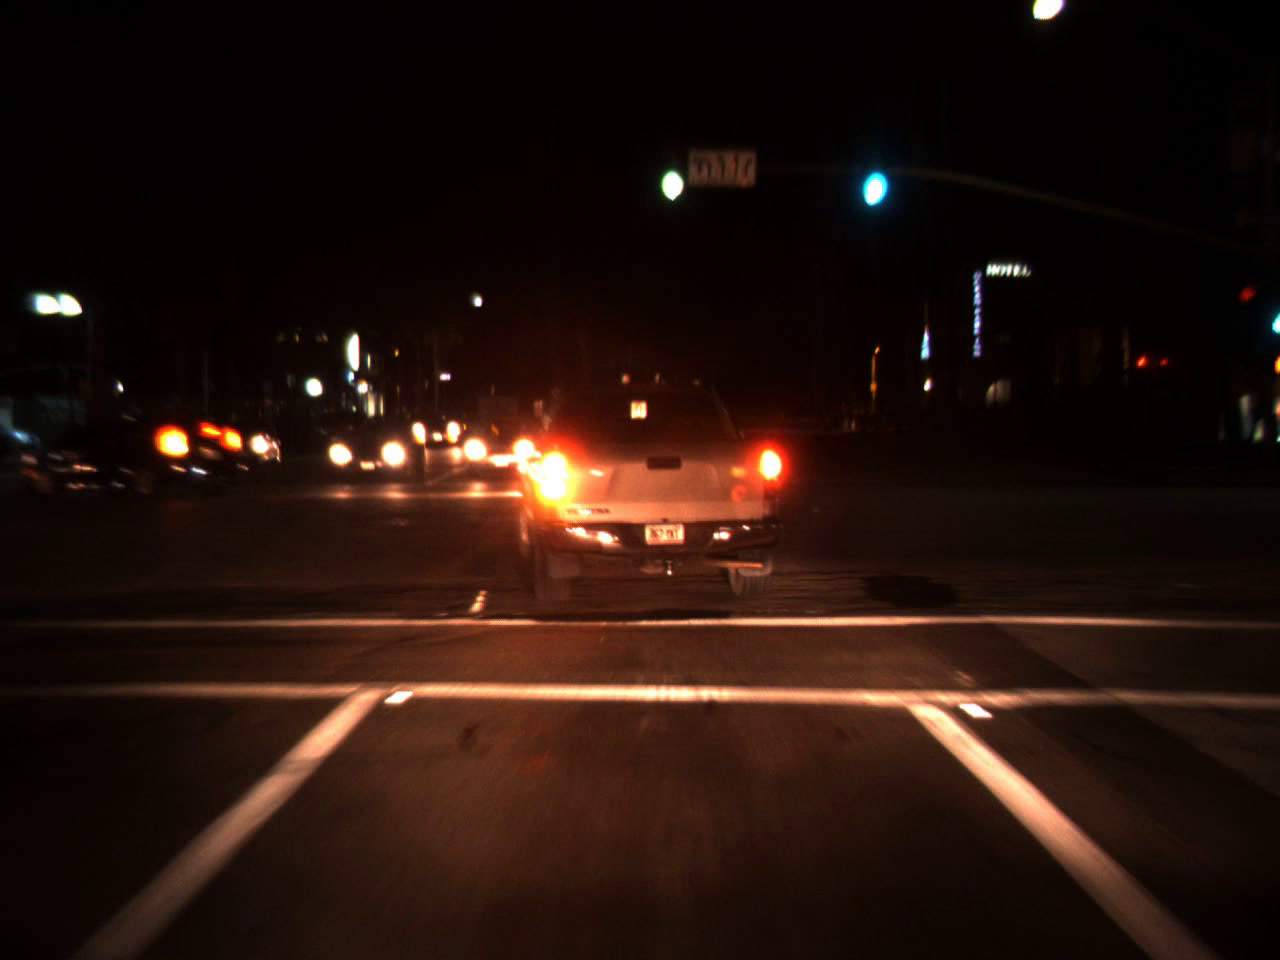go: (853, 135, 892, 216), (654, 134, 688, 212)
